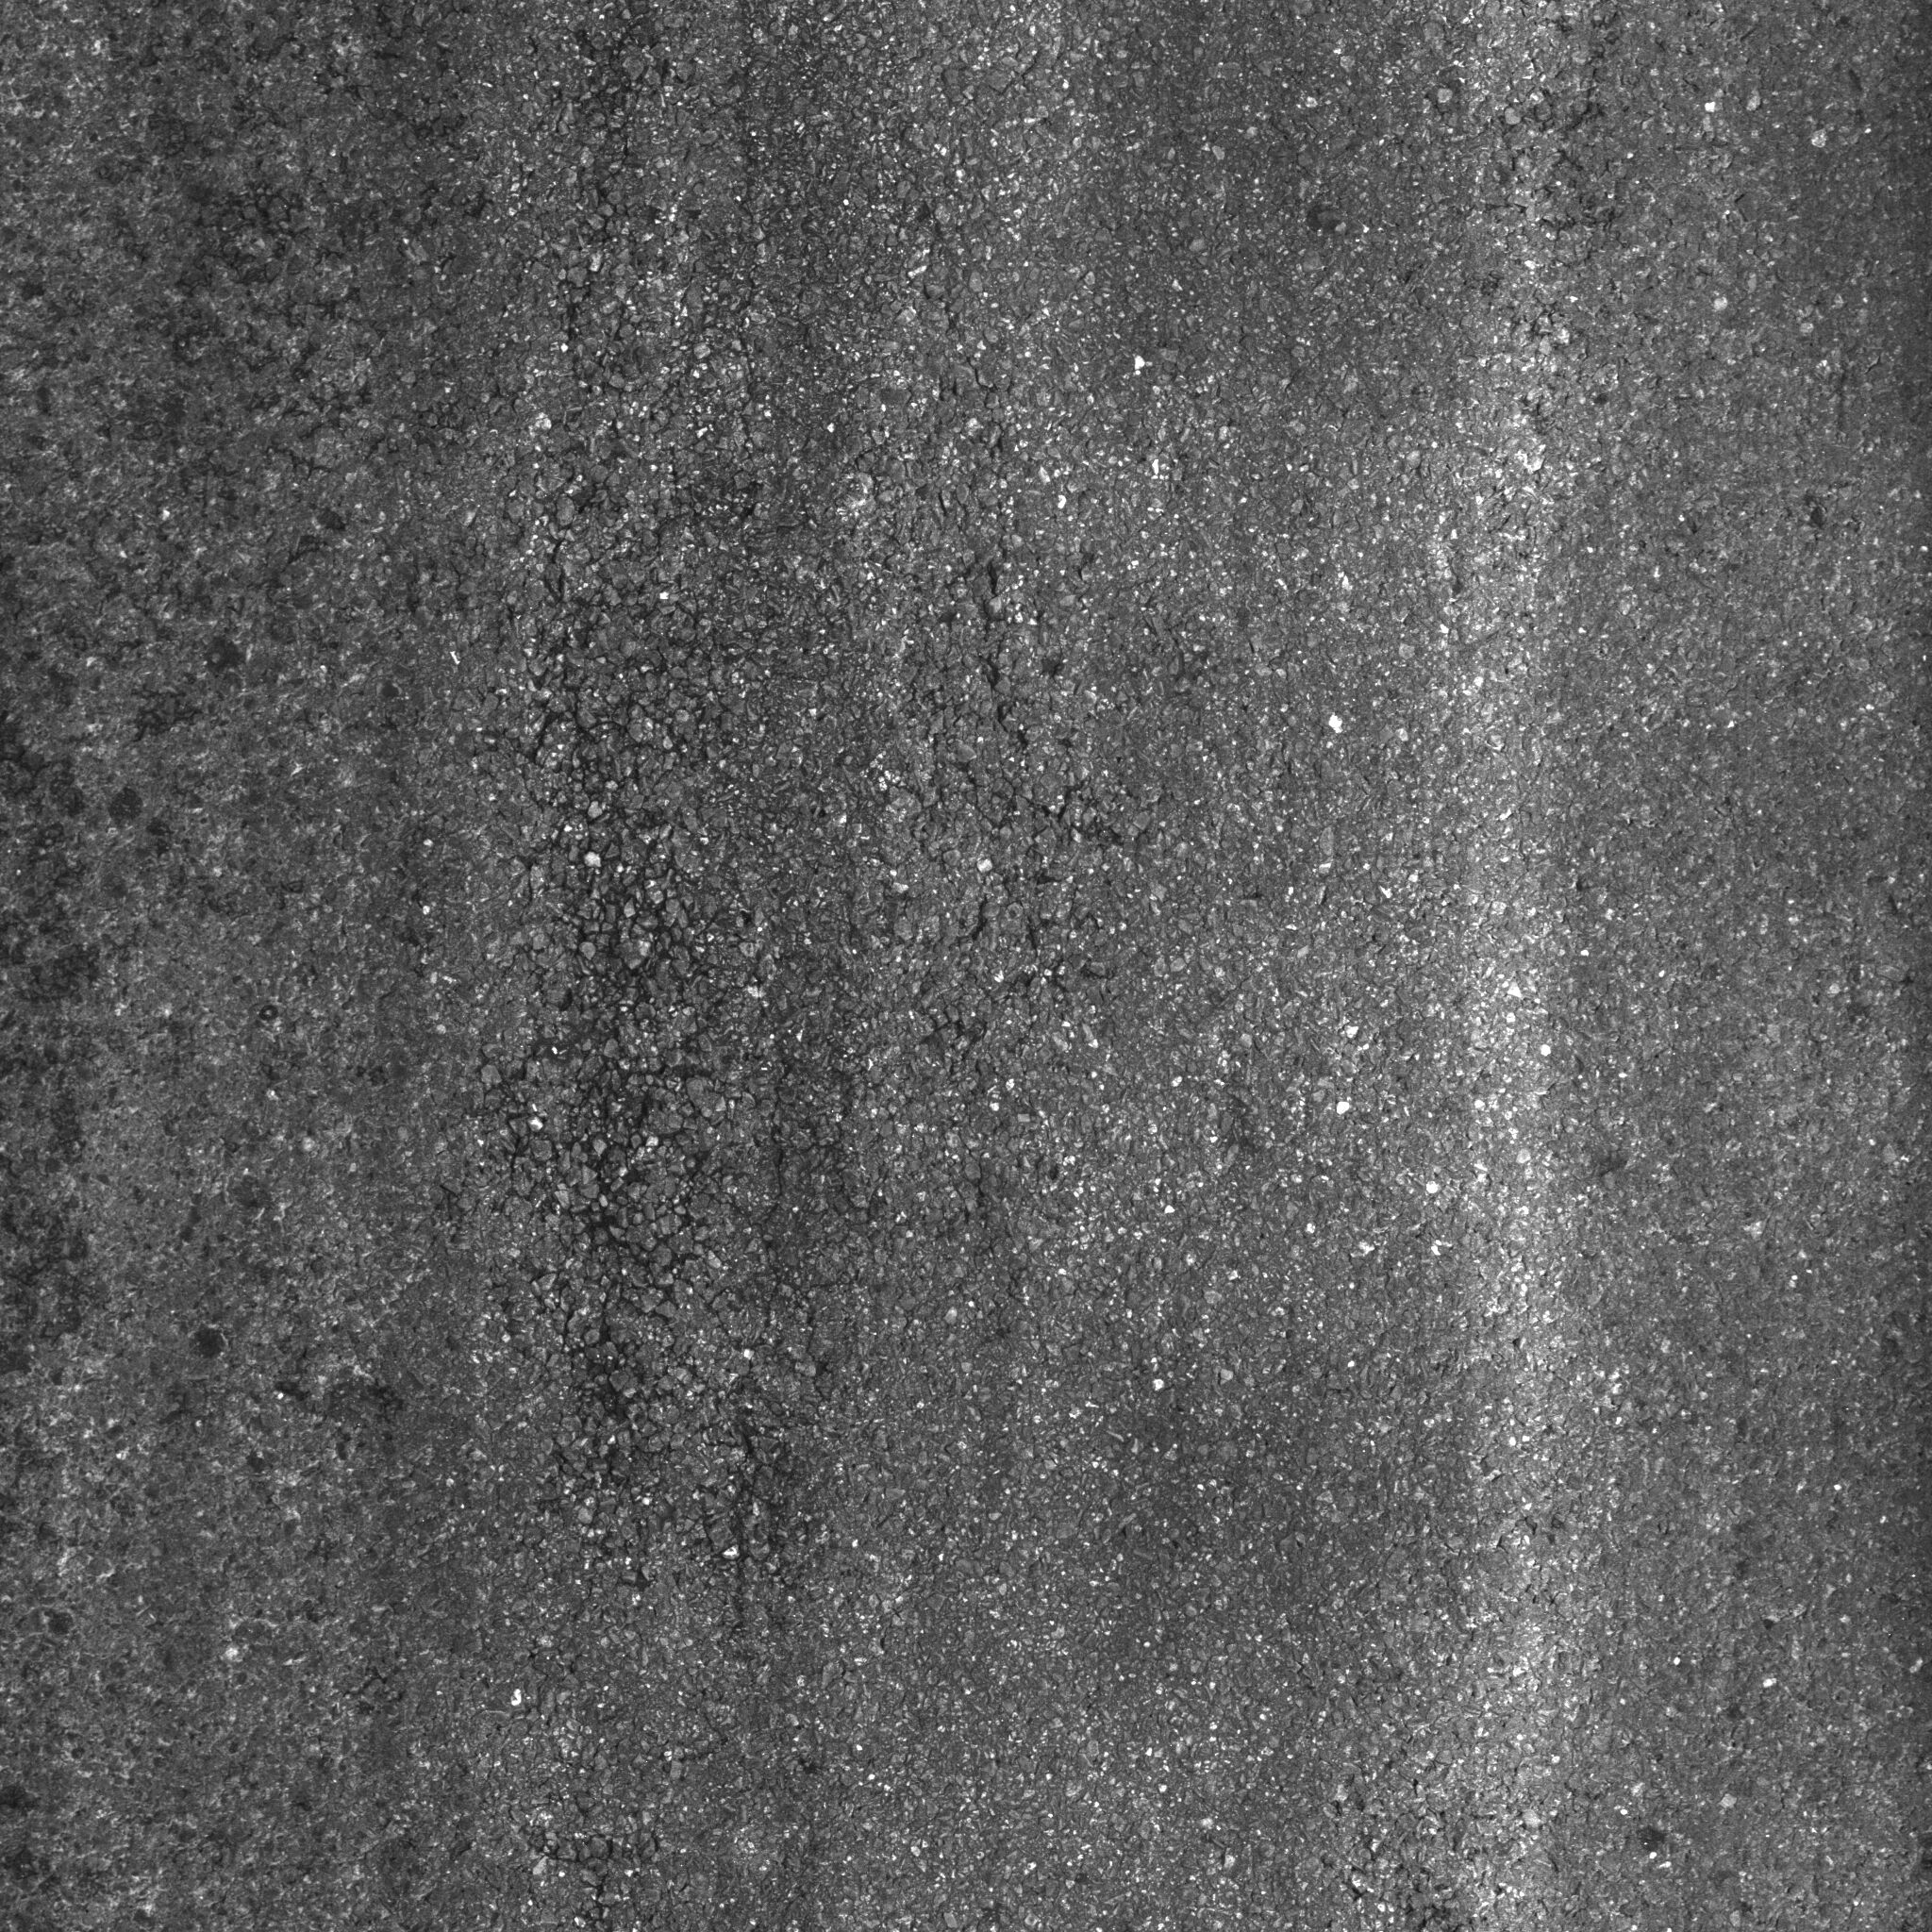alligator: (398, 50, 1129, 1601)
